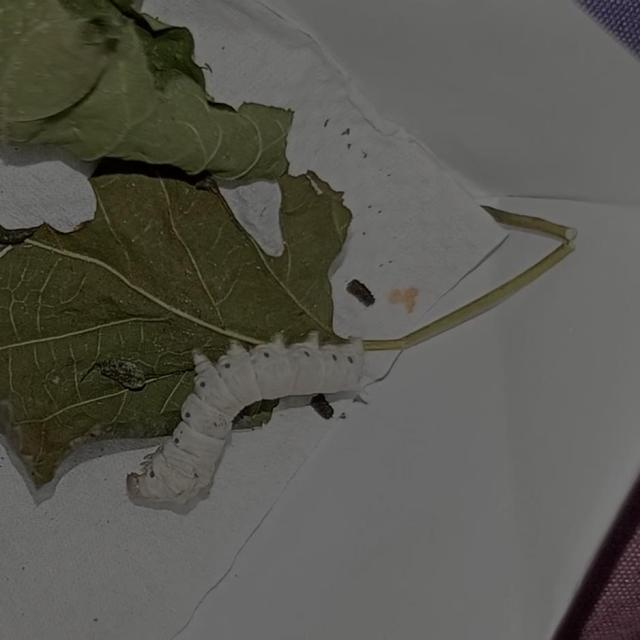Healthy: (106, 291, 454, 550)
